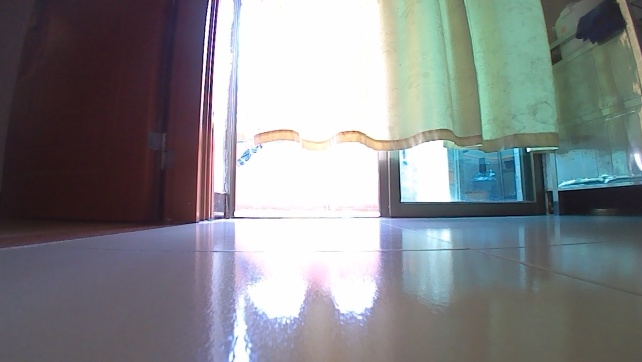door_anno: (0, 0, 219, 225)
